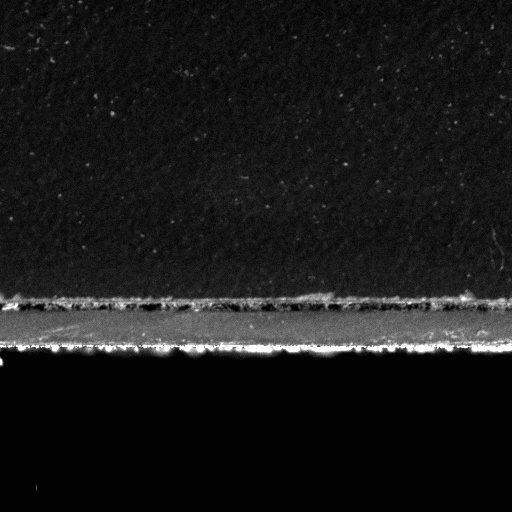jiaofeng: (7, 296, 490, 316)
